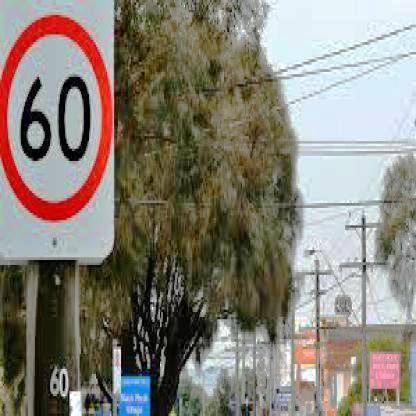Speed Limit -60-: (0, 8, 112, 229)
